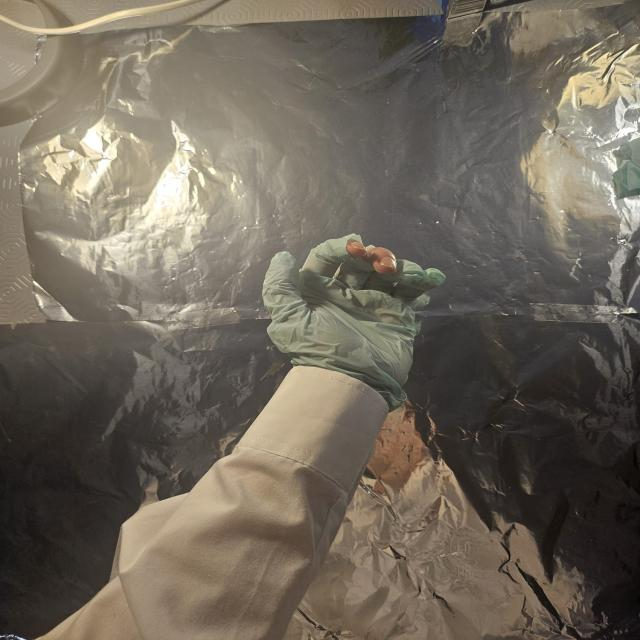gloves_damaged: (257, 232, 446, 410)
